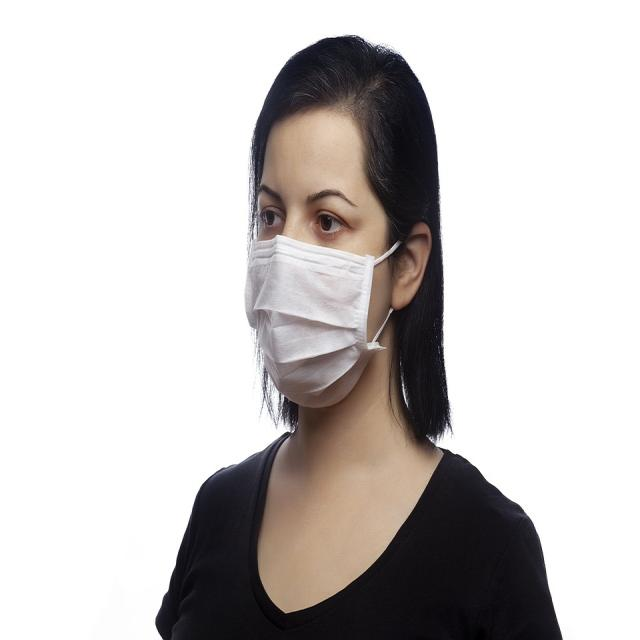1_mascarilla: (247, 237, 387, 408)
